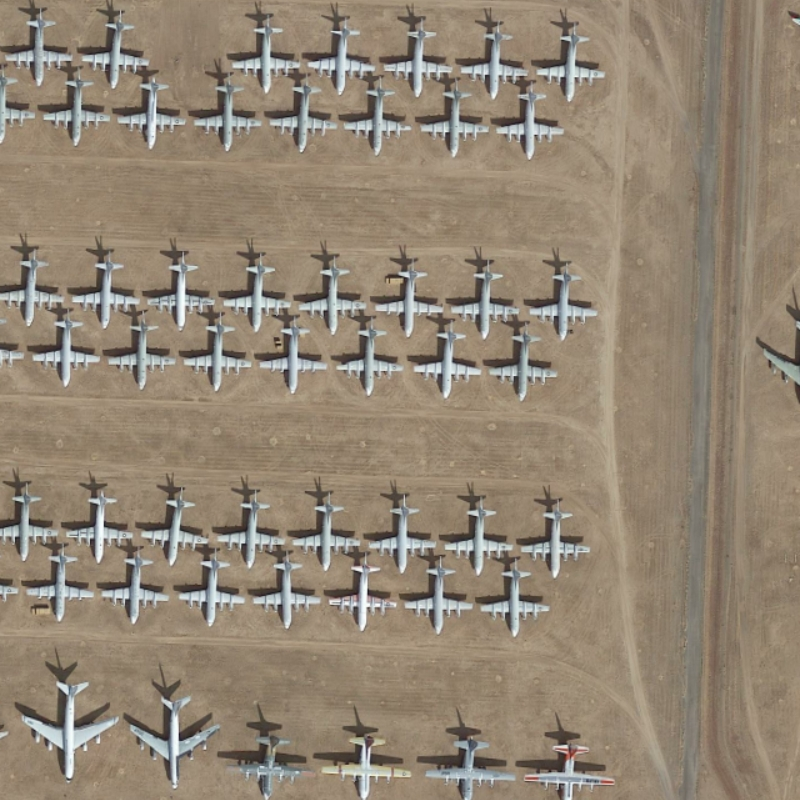A11: (17, 674, 120, 783), (122, 690, 221, 795)
A2: (315, 724, 419, 800), (421, 725, 520, 800), (522, 734, 619, 800), (218, 728, 313, 794)
A9: (287, 486, 365, 576), (527, 253, 604, 343), (181, 314, 255, 405), (306, 11, 381, 100), (447, 257, 525, 341), (147, 249, 221, 337), (226, 10, 303, 94), (521, 494, 595, 581), (382, 20, 462, 100), (70, 245, 142, 333), (365, 488, 436, 576), (298, 255, 372, 339), (443, 494, 515, 580), (481, 563, 556, 644), (104, 318, 180, 397), (1, 249, 72, 333), (328, 561, 404, 639), (248, 554, 323, 633), (458, 19, 532, 99), (137, 486, 211, 566), (63, 485, 134, 568), (84, 7, 153, 92), (493, 90, 572, 163), (4, 11, 76, 90), (24, 545, 96, 624), (419, 88, 493, 164), (215, 492, 287, 570), (102, 550, 171, 631), (340, 83, 413, 159), (484, 332, 560, 405), (269, 82, 342, 157), (538, 28, 609, 105), (193, 79, 260, 159), (39, 78, 113, 150), (375, 263, 445, 339), (258, 322, 330, 395), (402, 566, 476, 637), (114, 77, 184, 152), (334, 322, 405, 394), (179, 558, 248, 632), (412, 328, 482, 399), (28, 315, 98, 385), (225, 260, 292, 333), (2, 484, 61, 566)
